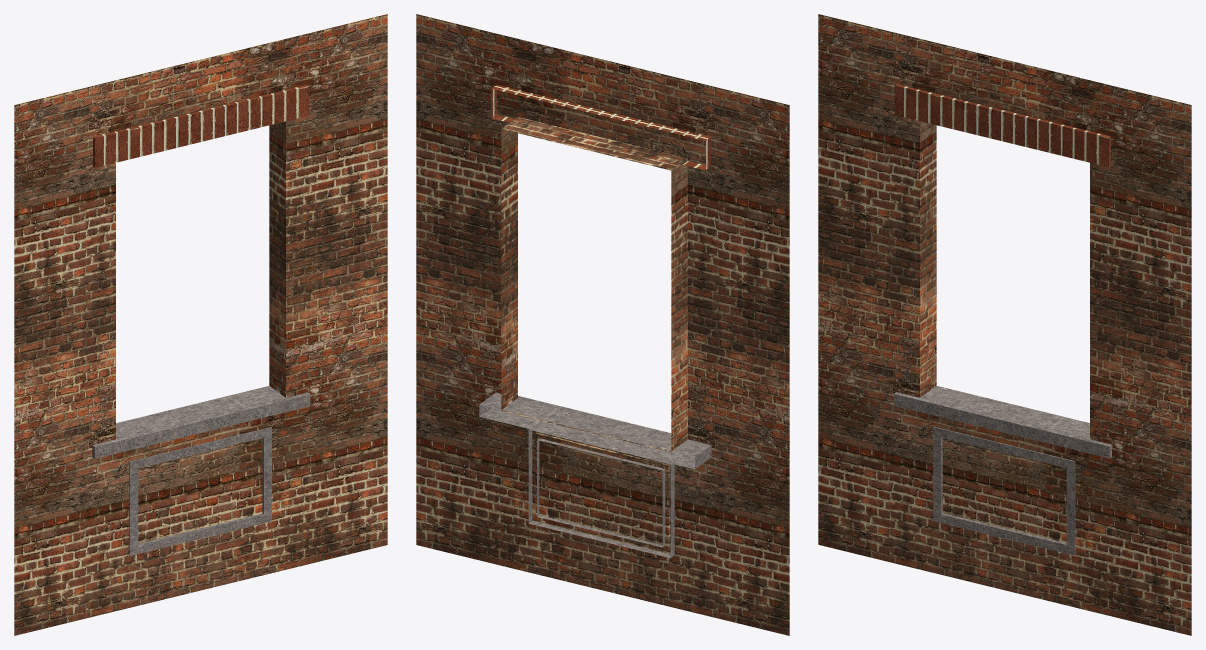
Rendered from BUILDING_singleFlatWindow_01.FBX.
The picture shows the model from 3 angles, left to right: view 1: azimuth 30°, elevation 25°; view 2: azimuth 150°, elevation 25°; view 3: azimuth 330°, elevation 25°; orthographic projection.
Parts seen in each view (by area): view 1: BUILDING_singleFlatWindow_01; view 2: BUILDING_singleFlatWindow_01; view 3: BUILDING_singleFlatWindow_01.
Part boxes in pixels (x1,y1,x2,y2): BUILDING_singleFlatWindow_01: [14, 14, 387, 635]; BUILDING_singleFlatWindow_01: [416, 14, 789, 635]; BUILDING_singleFlatWindow_01: [818, 14, 1191, 635].
Size of the model in its own units: 3.64 by 4.94 by 0.3207.
